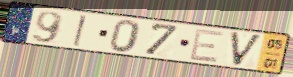0: (108, 19, 143, 54)
7: (146, 21, 180, 57)
9: (30, 10, 67, 44)
E: (187, 28, 226, 64)
I: (71, 14, 88, 49)
V: (228, 30, 265, 68)
